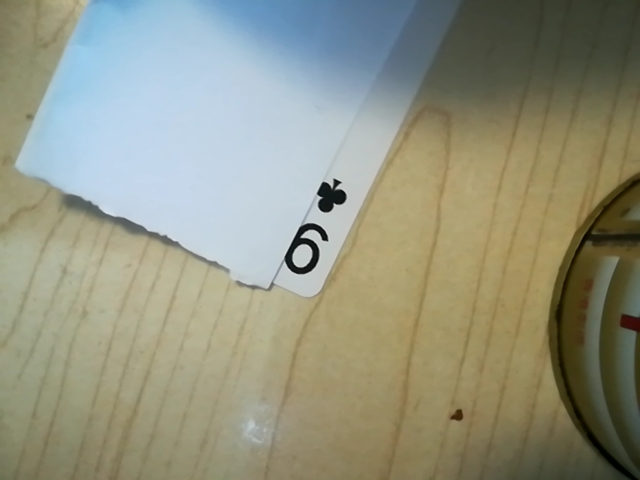mh 9: (272, 169, 352, 288)
